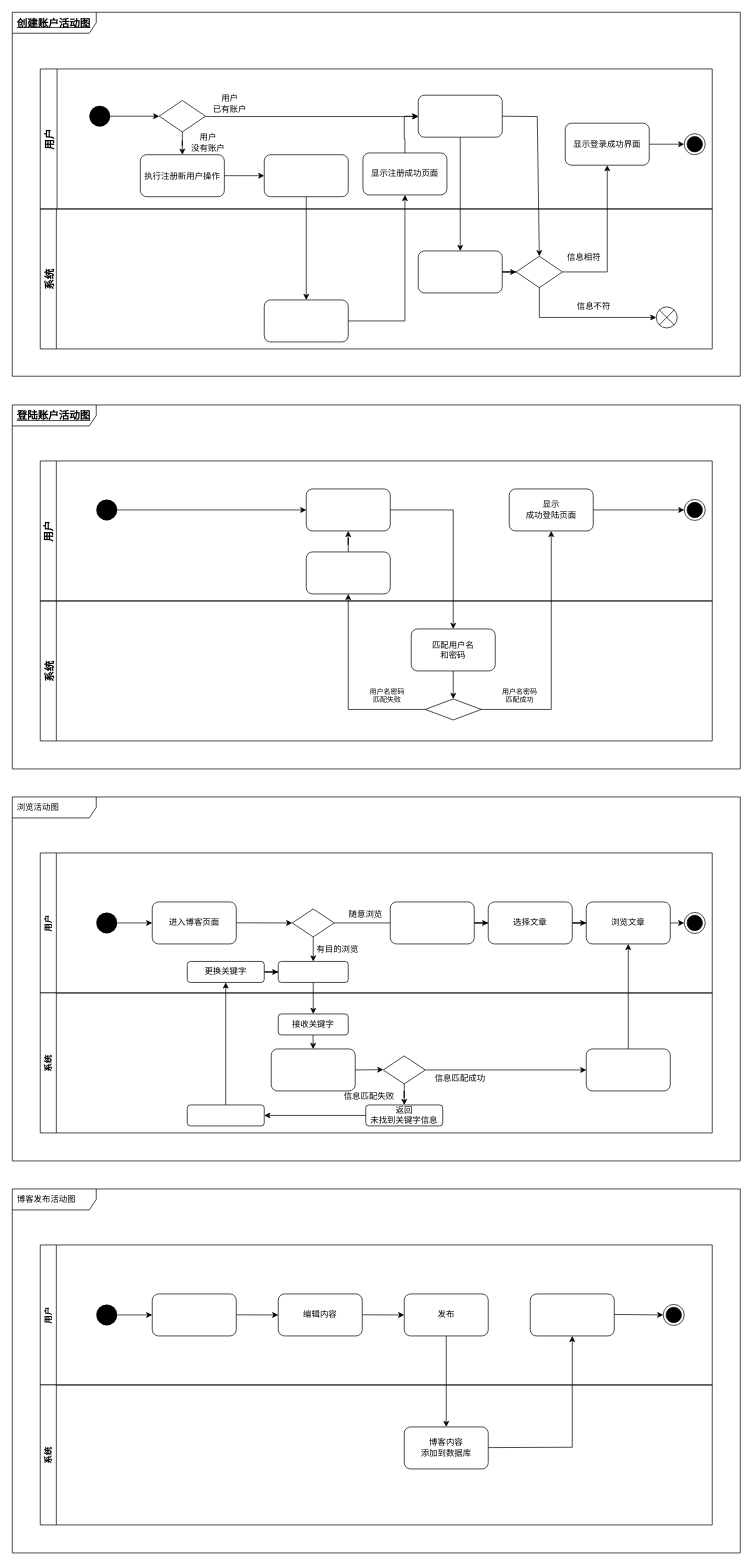
Image size: 753x1565. Some labels were removed from this diagram. The shapes that lost their labels are listed below. From the top down, each one's centre as x and y in pixels, then its label:
At (460,115): "输入用户信息".
At (306,175): "输入新用户相关信息".
At (460,271): "和数据库信息 进行比对".
At (306,320): "将信息存入数据库".
At (348,509): "输入账户信息".
At (348,572): "显示 登陆失败页面".
At (432,922): "文章选择列表".
At (313,971): "搜索 （输入关键字）".
At (313,1069): "和数据库进行比对".
At (628,1069): "返回文章给用户".
At (225,1115): "提示用户 更换关键字".
At (194,1314): "进入内容编辑页面".
At (572,1314): "显示上传成功界面".
